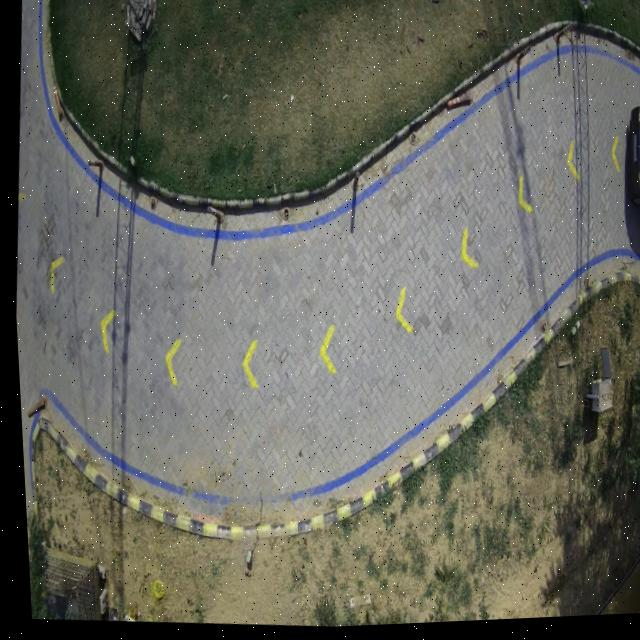car: (624, 112, 640, 210)
